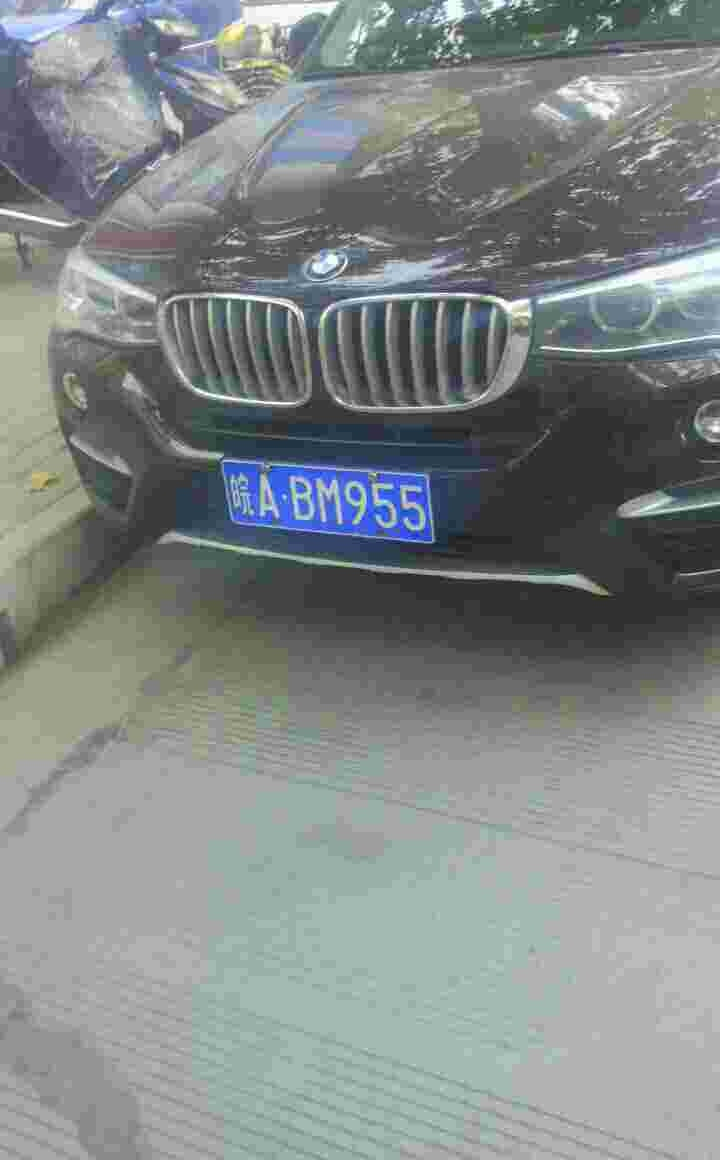license_plate: (214, 465, 441, 540)
